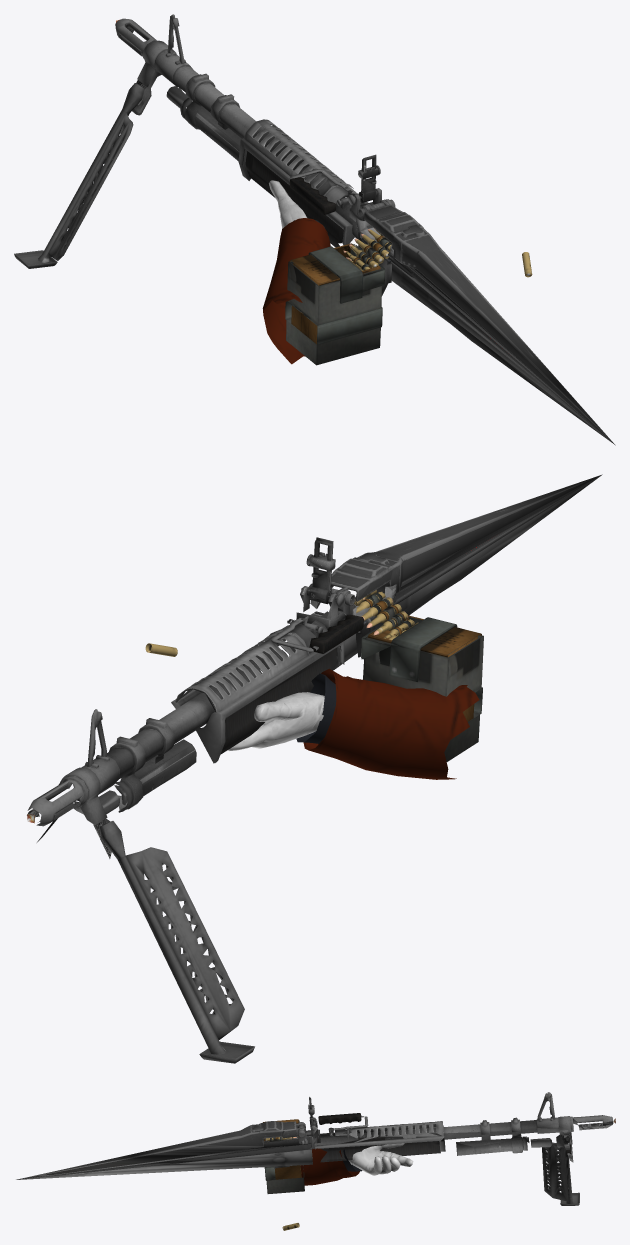
The model's file is frame_25.obj.
3 views of the same model, one above another, from view 1: azimuth 30°, elevation 25°; view 2: azimuth 150°, elevation 25°; view 3: azimuth 270°, elevation 25° (orthographic). The views are drawn at different scales.
Visible parts, largest first — view 1: Mesh.005, PlayerModelMerged.001_PlayerModelMerged, Mesh.001; view 2: Mesh.005, PlayerModelMerged.001_PlayerModelMerged, Mesh.001; view 3: Mesh.005, PlayerModelMerged.001_PlayerModelMerged.
Part boxes in pixels (left/top/right/bottom): Mesh.005: left=14, top=14, right=615, bottom=445; PlayerModelMerged.001_PlayerModelMerged: left=262, top=180, right=330, bottom=364; Mesh.001: left=343, top=229, right=391, bottom=270; Mesh.005: left=27, top=474, right=602, bottom=1063; PlayerModelMerged.001_PlayerModelMerged: left=228, top=668, right=479, bottom=779; Mesh.001: left=355, top=591, right=414, bottom=638; Mesh.005: left=16, top=1092, right=613, bottom=1205; PlayerModelMerged.001_PlayerModelMerged: left=300, top=1143, right=413, bottom=1185.
Size of the model in its own units: 0.8107 by 0.6135 by 2.27.
